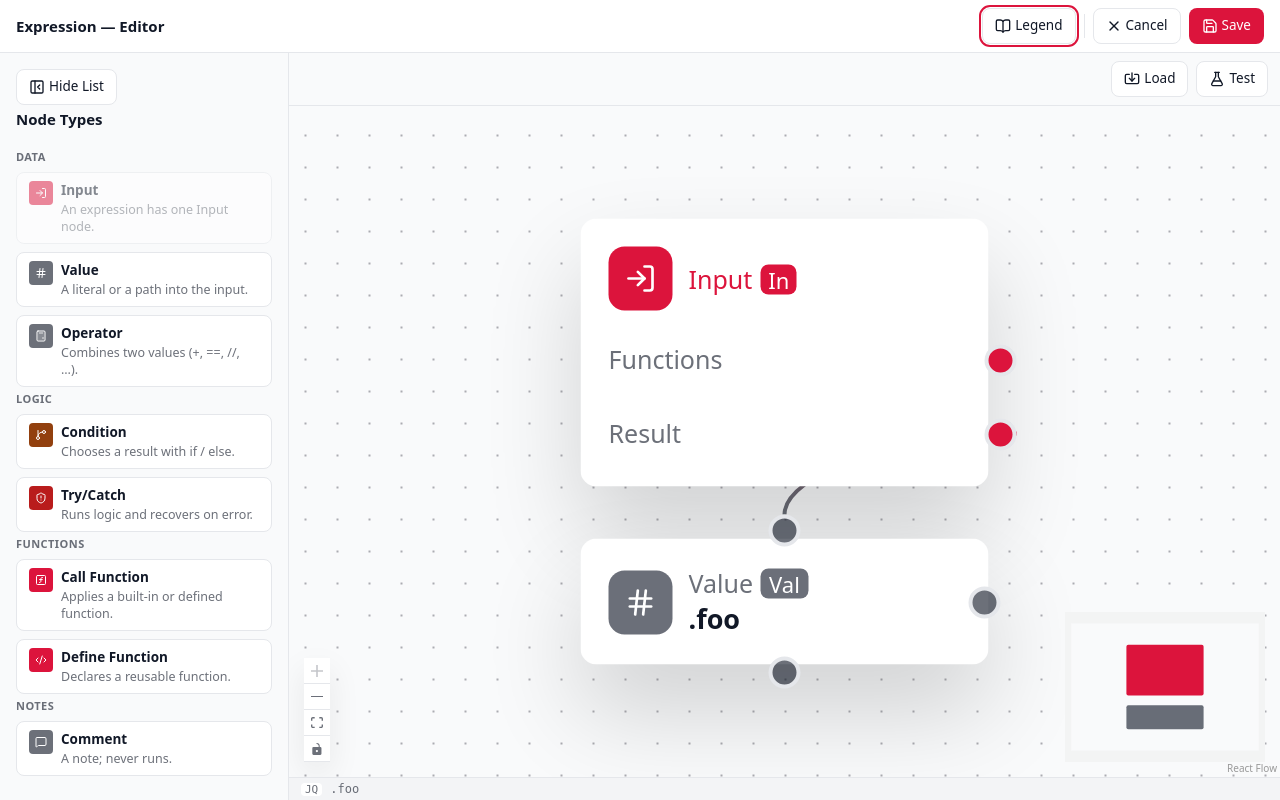
Test: JQEditorDialog dirty guard (real canvas) › raises the discard-confirm on close once the graph is genuinely edited
Click the element with class "react-flow__node" showing "Value Val .foo" at (784, 602), box 580,538 -> 988,664
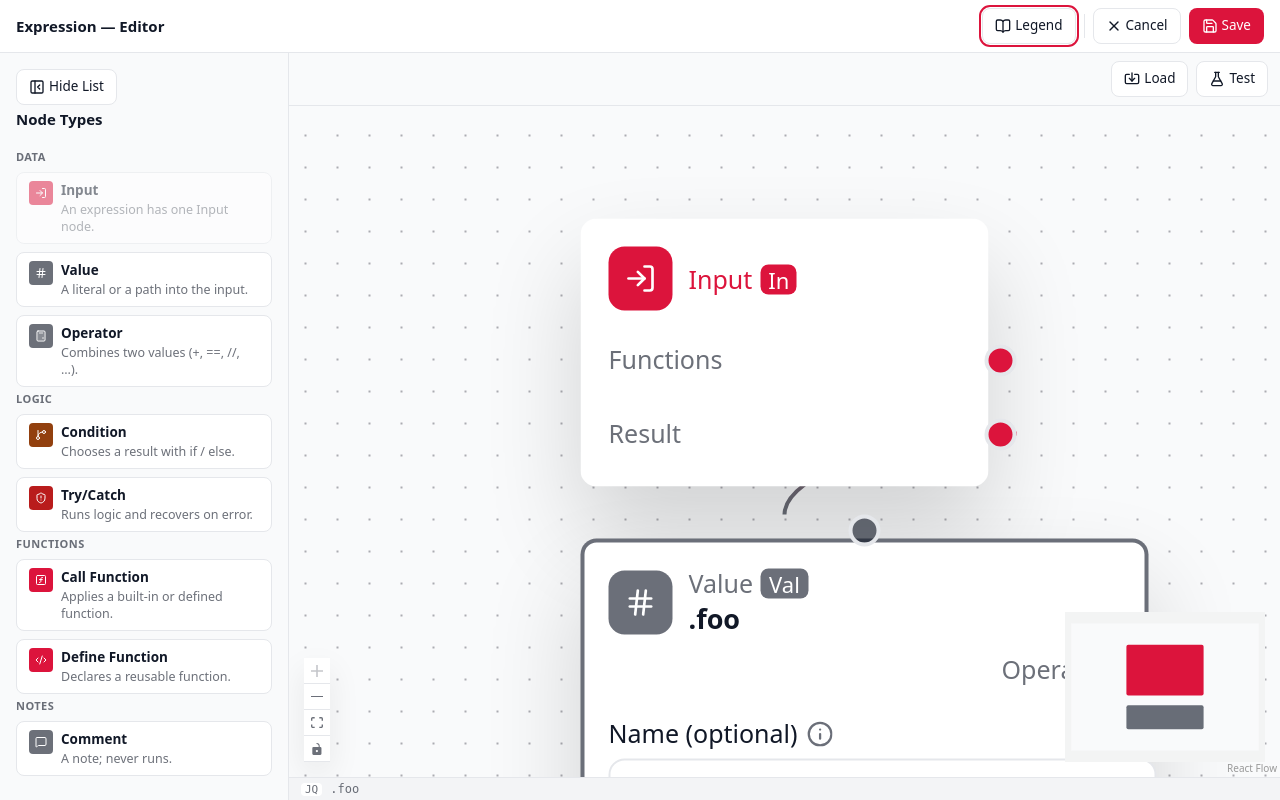
Press Backspace in the element with class "react-flow"
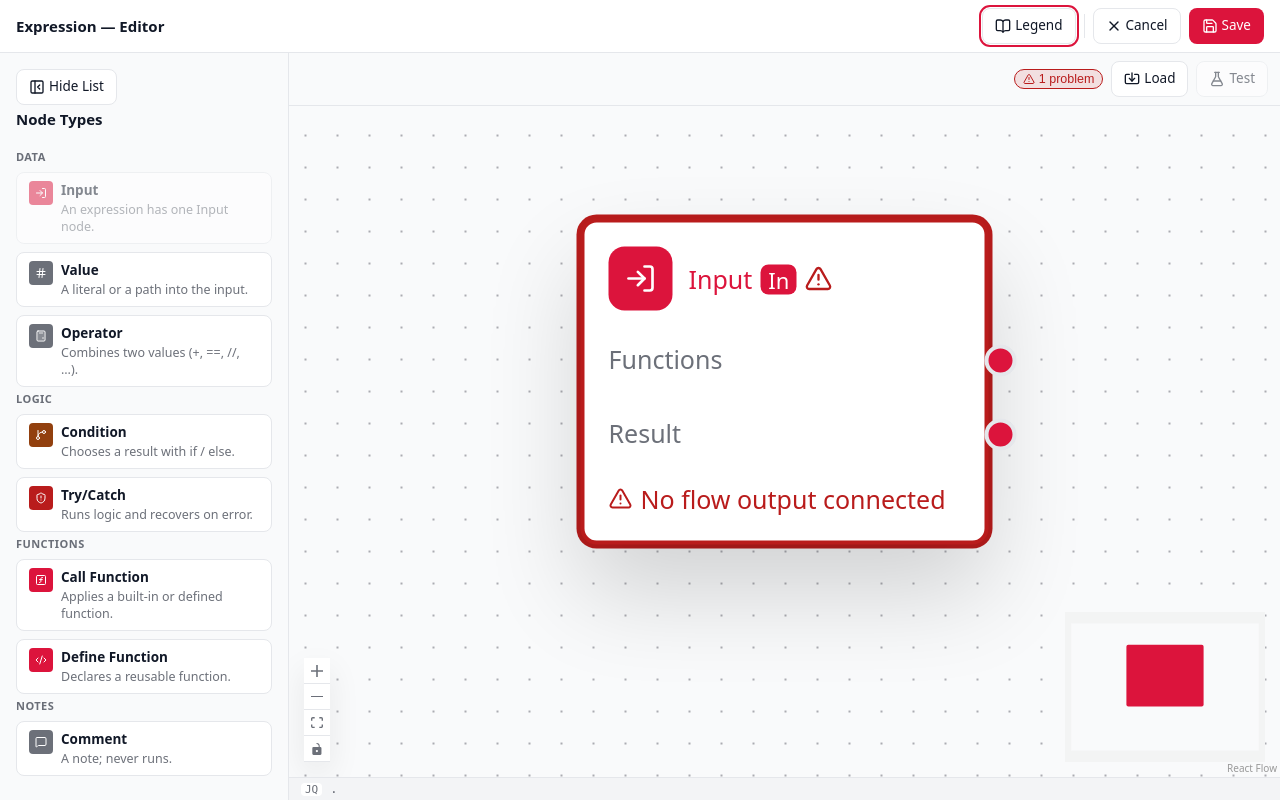
Press Escape
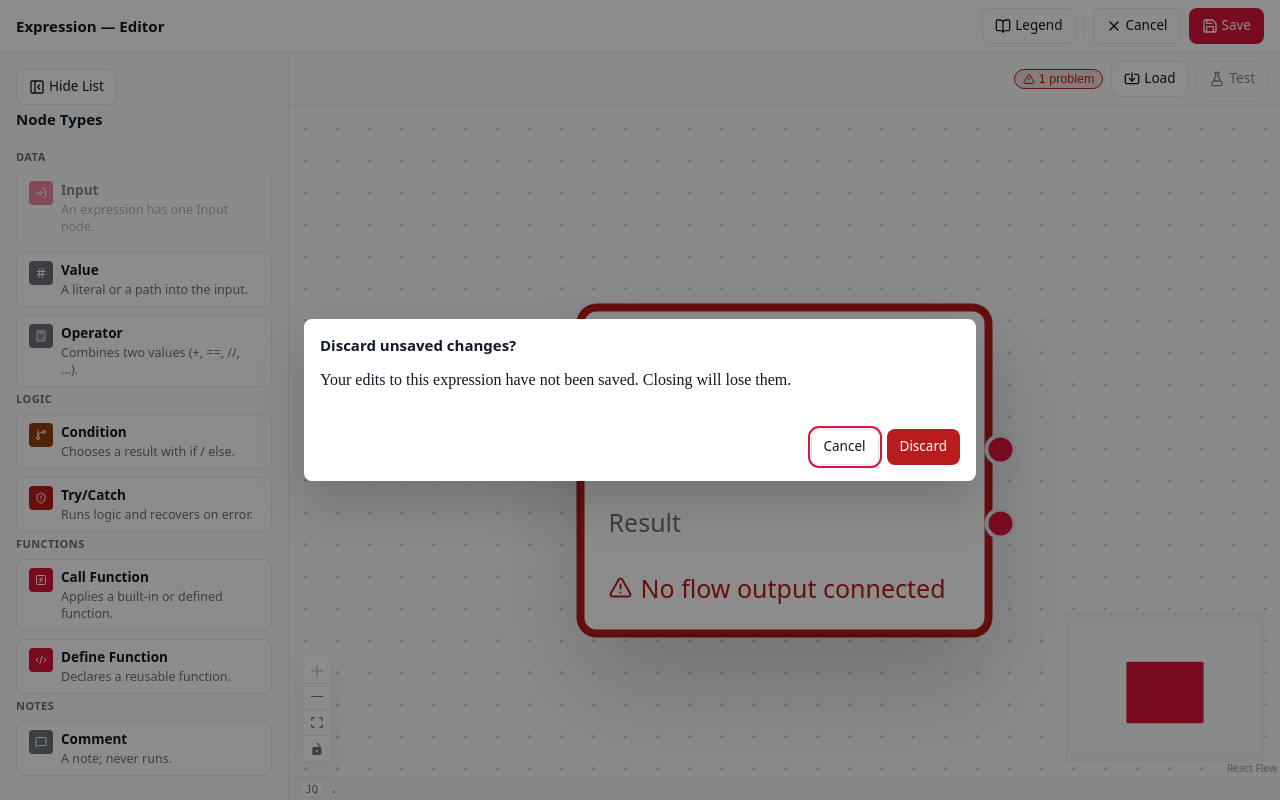
Check: the heading "Discard unsaved changes?" is shown, box 320,335 -> 516,355
